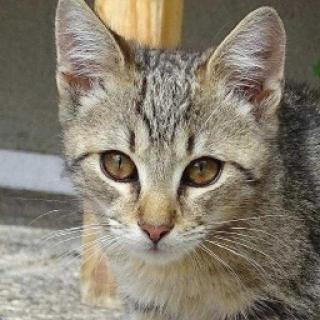cat: (48, 0, 285, 279)
nose: (132, 202, 187, 248)
